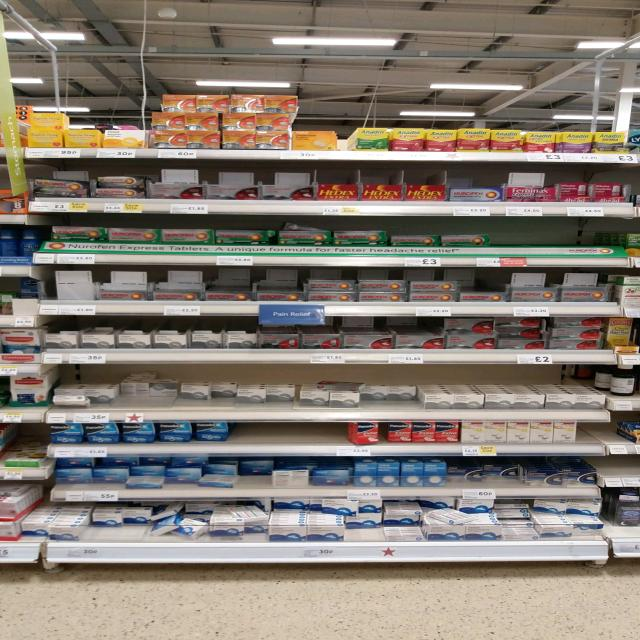void: (584, 224, 618, 266), (548, 224, 582, 266), (228, 423, 269, 456), (519, 224, 549, 267), (271, 424, 309, 457), (494, 222, 518, 267), (310, 423, 344, 454), (584, 425, 618, 454), (602, 460, 636, 487)
